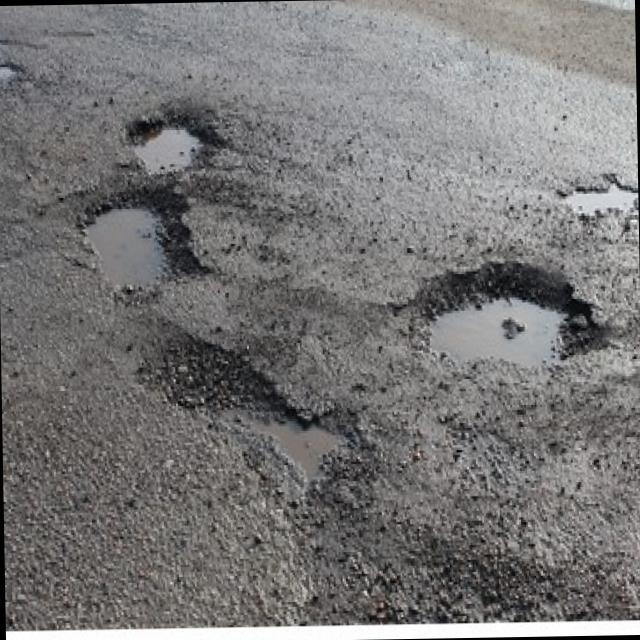Pothole: (143, 337, 350, 492), (393, 259, 606, 370), (74, 182, 208, 300), (124, 112, 208, 176), (558, 176, 638, 216), (0, 59, 19, 96)
